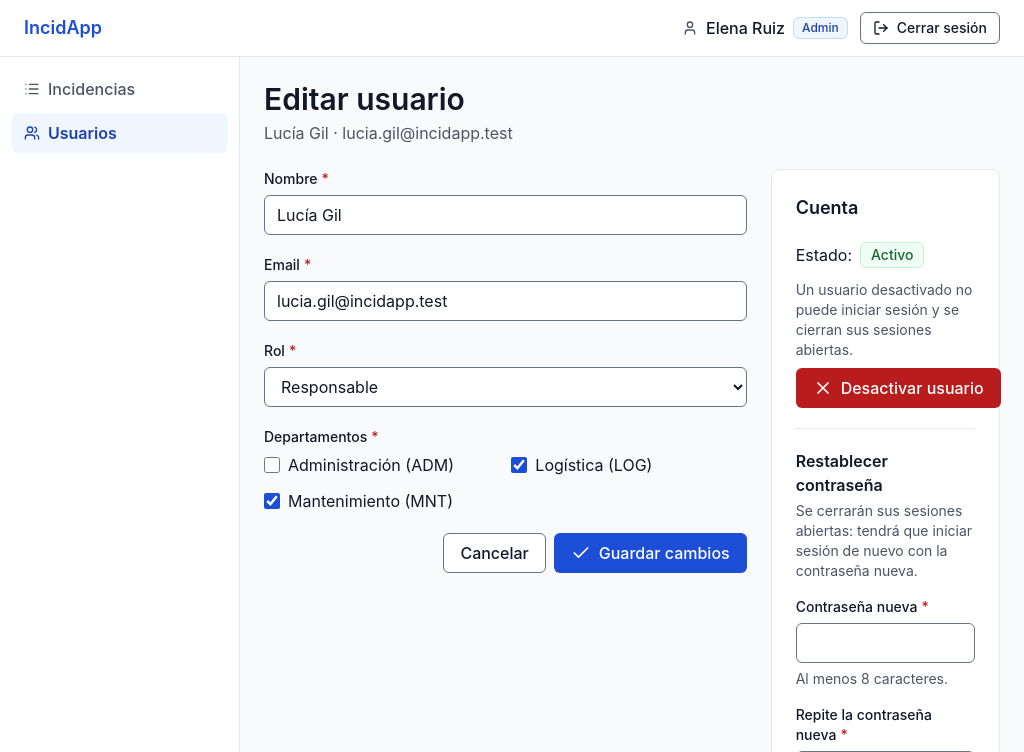
Test: CA-02.19 · edición de usuario › un 409 sin cambio de email (regla de negocio) va al aviso general
Click the button "Guardar cambios": (650, 553) [554,533,747,573]
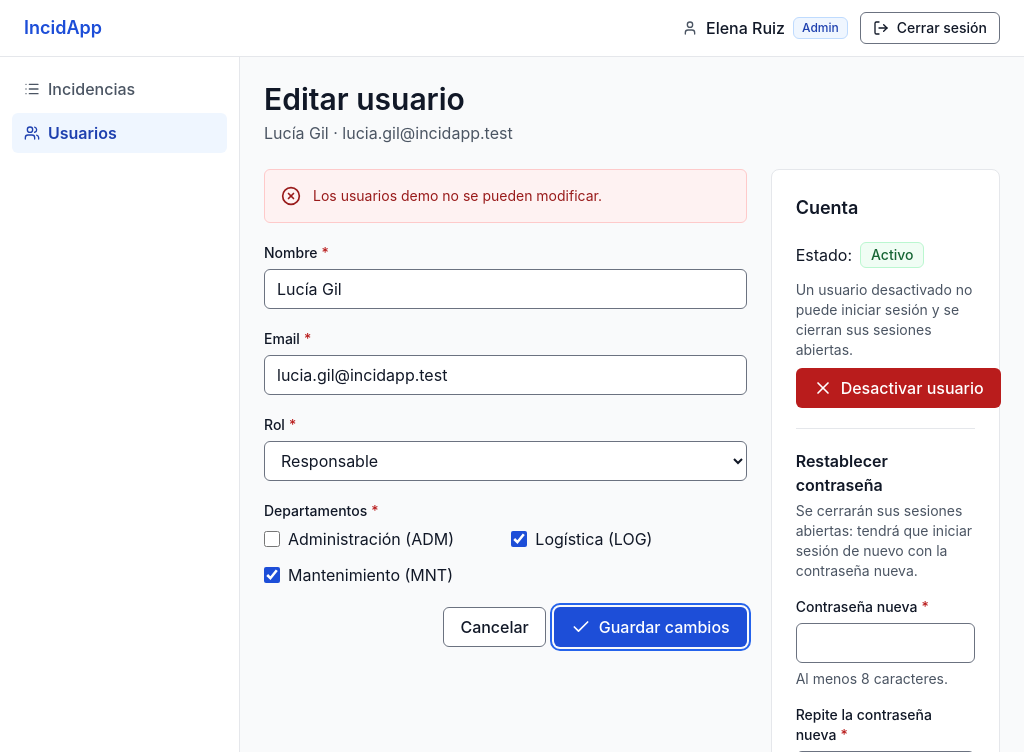
Now the message reads "Los usuarios demo no se pueden modificar.", box [313,187,602,204]
